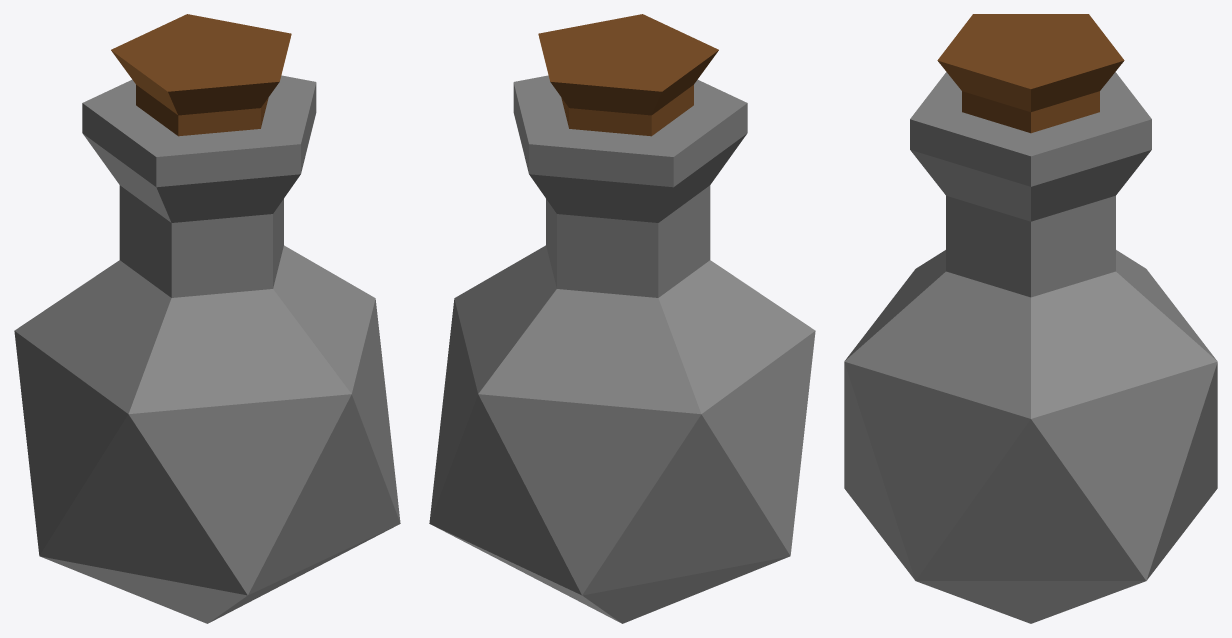
The model's file is health_potion.glb.
The picture shows the model from 3 angles, left to right: view 1: azimuth 30°, elevation 25°; view 2: azimuth 150°, elevation 25°; view 3: azimuth 270°, elevation 25°; orthographic projection.
Visible parts, largest first — view 1: Icosphere; view 2: Icosphere; view 3: Icosphere.
Part boxes in pixels (x1,y1,x2,y2): Icosphere: (14, 14, 400, 623); Icosphere: (429, 14, 815, 623); Icosphere: (844, 14, 1217, 623).
Bounding box in the file's own units: 2.25 × 3.64 × 2.14.
